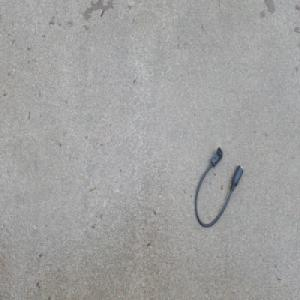Wire: (193, 144, 244, 228)
